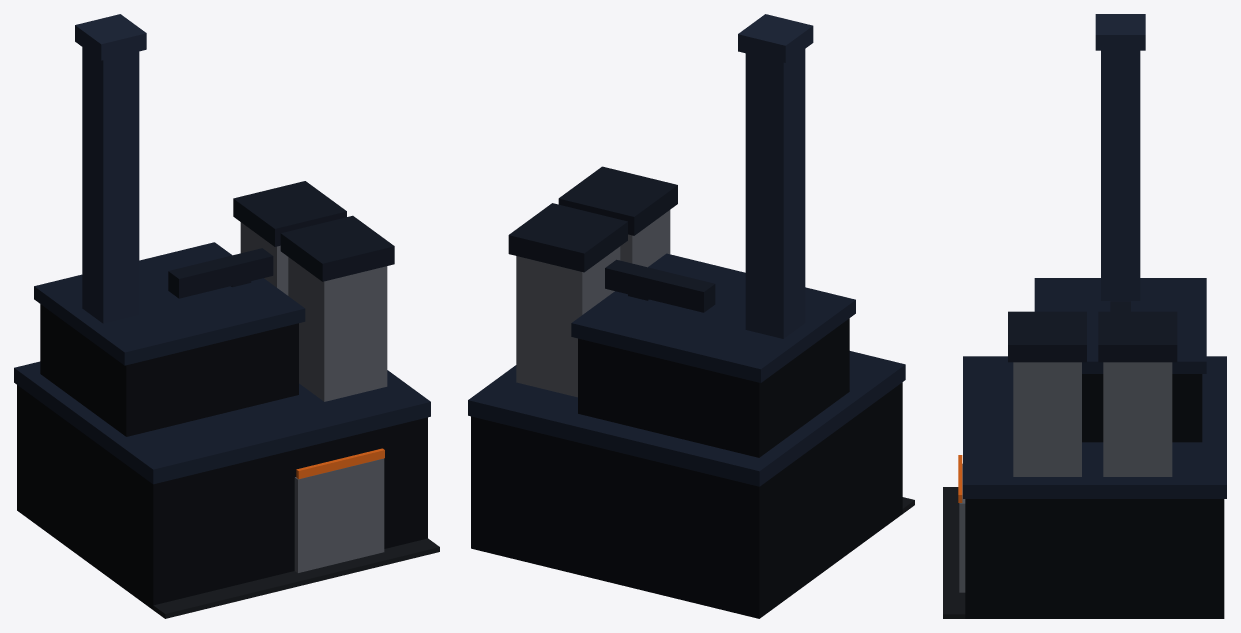
File: works2.obj
3 renders of one model, left to right at view 1: azimuth 30°, elevation 25°; view 2: azimuth 150°, elevation 25°; view 3: azimuth 270°, elevation 25°, orthographic. The views are drawn at different scales.
Parts seen in each view (by area): view 1: shed, upper-block, roof, stack, upper-roof, silos, silo-caps, door, apron, flues, door-light; view 2: shed, upper-block, stack, upper-roof, roof, silos, silo-caps, flues; view 3: shed, roof, silos, stack, silo-caps, upper-roof, upper-block, apron, door.
Boxes of the visible parts, x1,y1,x2,y2 form: shed: [17, 385, 427, 609]; upper-block: [40, 304, 298, 436]; roof: [14, 361, 430, 484]; stack: [75, 14, 146, 323]; upper-roof: [34, 242, 305, 365]; silos: [240, 222, 387, 401]; silo-caps: [233, 181, 394, 281]; door: [294, 458, 384, 572]; apron: [153, 538, 439, 618]; flues: [168, 248, 273, 298]; door-light: [296, 448, 384, 479]; shed: [471, 382, 902, 618]; upper-block: [578, 318, 849, 457]; stack: [738, 14, 813, 338]; upper-roof: [571, 253, 855, 382]; roof: [468, 351, 905, 486]; silos: [516, 210, 670, 397]; silo-caps: [508, 166, 677, 272]; flues: [605, 259, 715, 312]; shed: [965, 499, 1224, 618]; roof: [963, 356, 1226, 498]; silos: [1013, 362, 1172, 476]; stack: [1095, 14, 1145, 300]; silo-caps: [1008, 311, 1177, 362]; upper-roof: [1034, 278, 1206, 373]; upper-block: [1082, 374, 1202, 442]; apron: [943, 487, 965, 618]; door: [959, 463, 965, 592].
Bounding box in the file's own units: 3.54 × 6.23 × 3.3.
